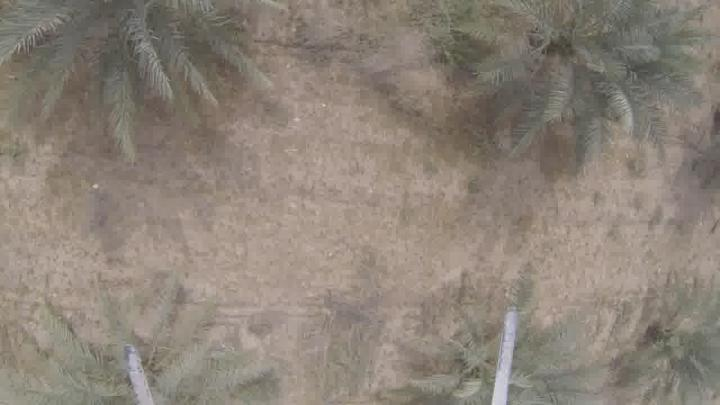Date-Palm-Crown: (0, 0, 232, 108), (485, 1, 683, 123), (31, 316, 252, 404), (393, 324, 591, 404), (626, 290, 720, 404)
